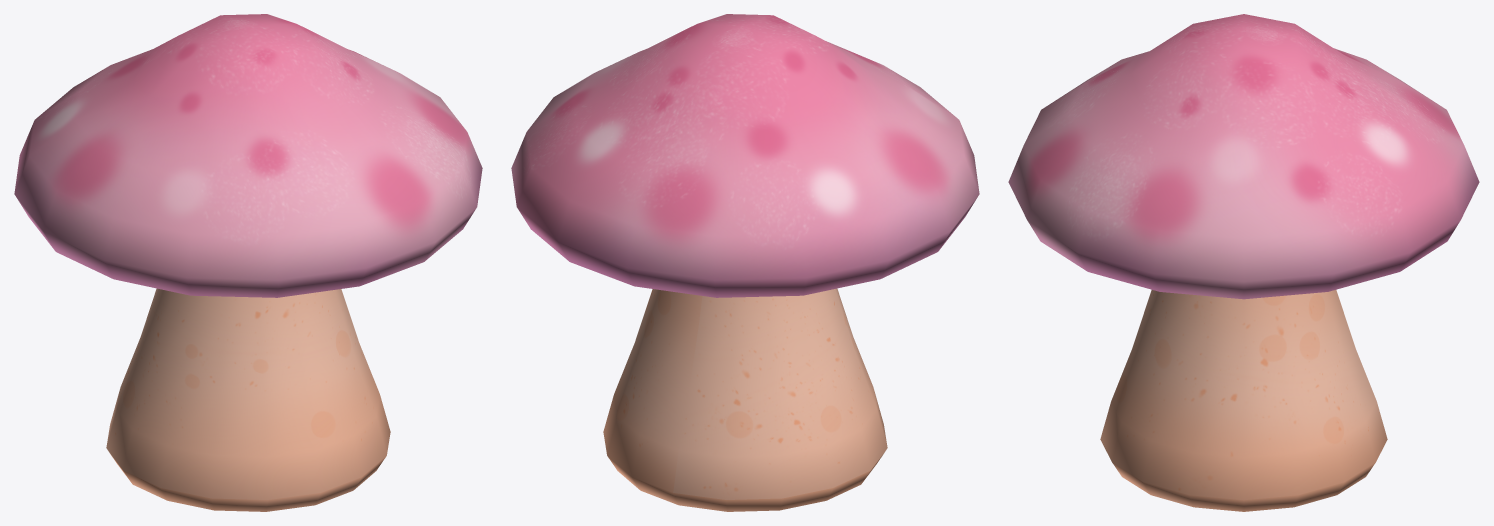
Rendered from pinkMush.glb.
The picture shows the model from 3 angles, left to right: view 1: azimuth 30°, elevation 25°; view 2: azimuth 150°, elevation 25°; view 3: azimuth 270°, elevation 25°; orthographic projection.
Parts seen in each view (by area): view 1: MyceliumParentB; view 2: MyceliumParentB; view 3: MyceliumParentB.
Boxes of the visible parts, x1=… form: MyceliumParentB: x1=14, y1=14, x2=482, y2=511; MyceliumParentB: x1=511, y1=14, x2=979, y2=511; MyceliumParentB: x1=1008, y1=14, x2=1479, y2=511.
Size of the model in its own units: 0.1958 by 0.1984 by 0.1958.
Materials: 1 (1 with a texture image).
